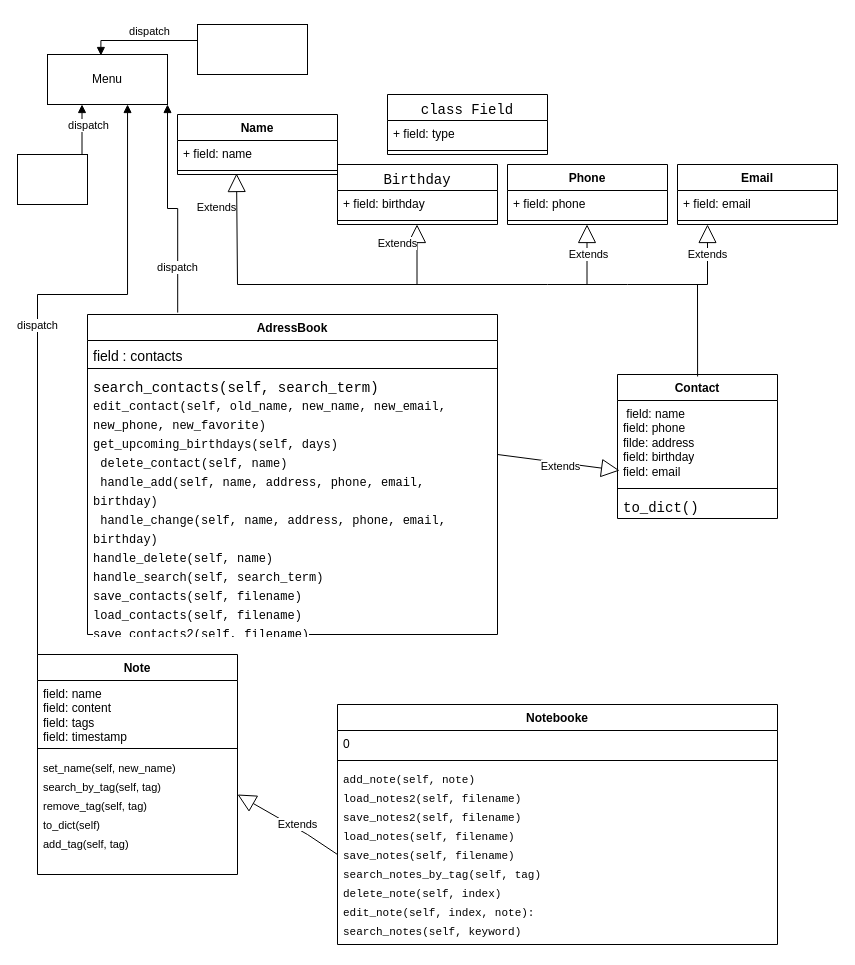
Some shapes in this 855 by 965 pixel diagram are drawn without their labels. Here are the shapes that lost their labels. From the top down, the centre of each, then its label:
At point 252,49: "pogoda".
At point 52,179: "Task_11".
